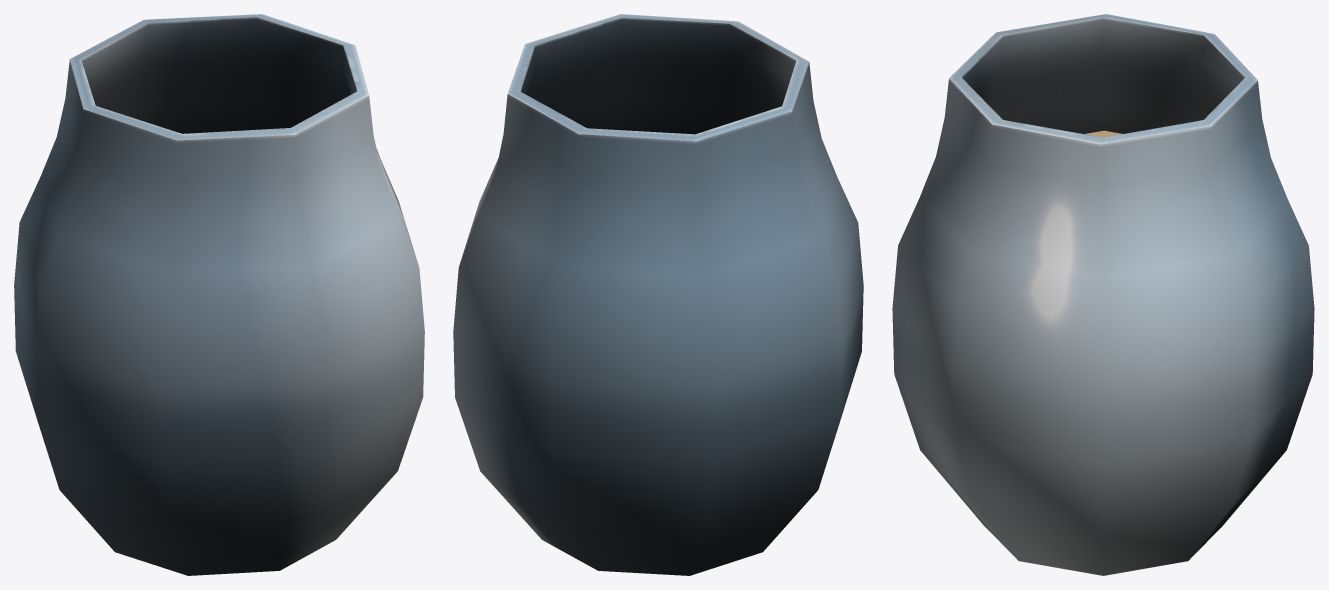
File: Goldwasser_Cocktail.glb
The picture shows the model from 3 angles, left to right: view 1: azimuth 30°, elevation 25°; view 2: azimuth 150°, elevation 25°; view 3: azimuth 270°, elevation 25°; orthographic projection.
Visible parts, largest first — view 1: CocktailGlass.005; view 2: CocktailGlass.005; view 3: CocktailGlass.005.
Part boxes in pixels (x1,y1,x2,y2): CocktailGlass.005: (14,14,424,575); CocktailGlass.005: (453,14,863,575); CocktailGlass.005: (892,14,1314,575).
Size of the model in its own units: 0.0606 by 0.071 by 0.0606.
Materials: 2 (2 with a texture image).
